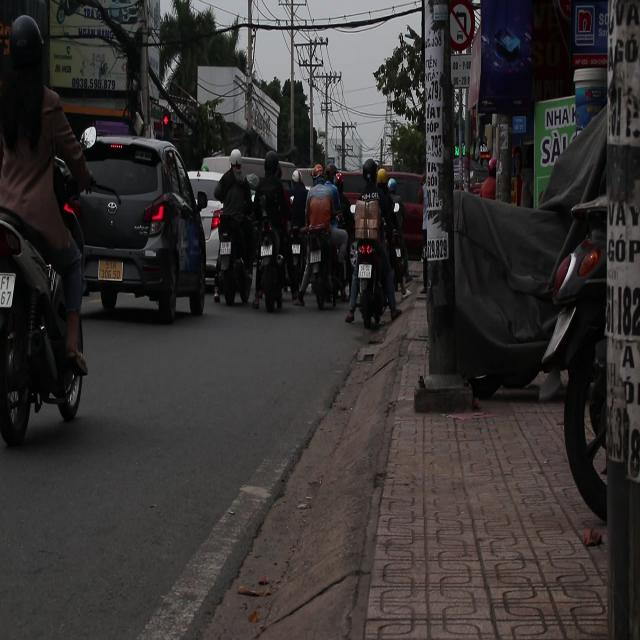car: (70, 135, 208, 322)
motorbike: (0, 183, 90, 449), (350, 228, 385, 332), (217, 204, 248, 316), (258, 222, 286, 312), (308, 228, 333, 324)
